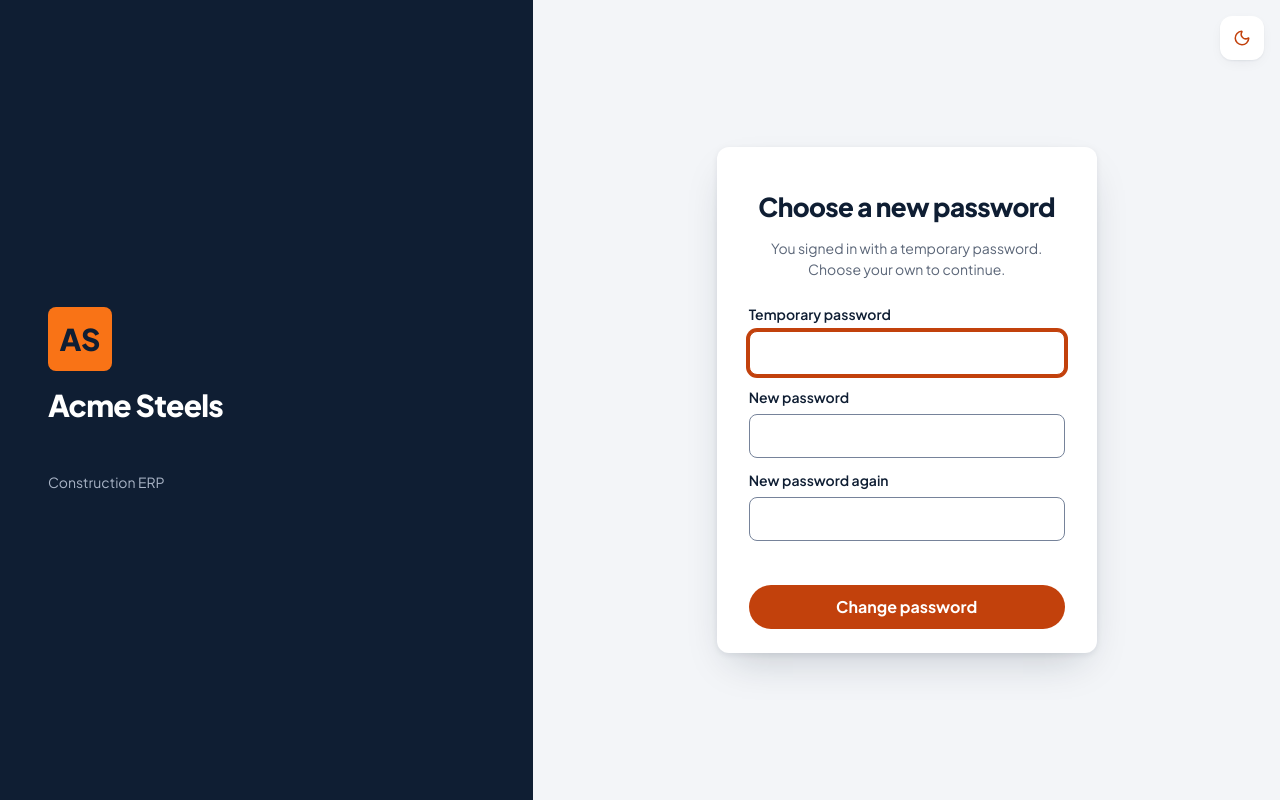
Test: a temporary password (set by Duolink when it onboarded the company) › shows the server's reason when the new password is refused
Type "temp-pass-123" into the password field labelled "Temporary password".
click(907, 353); type("temp-pass-123")  # box top-left (749, 331), bottom-right (1065, 375)
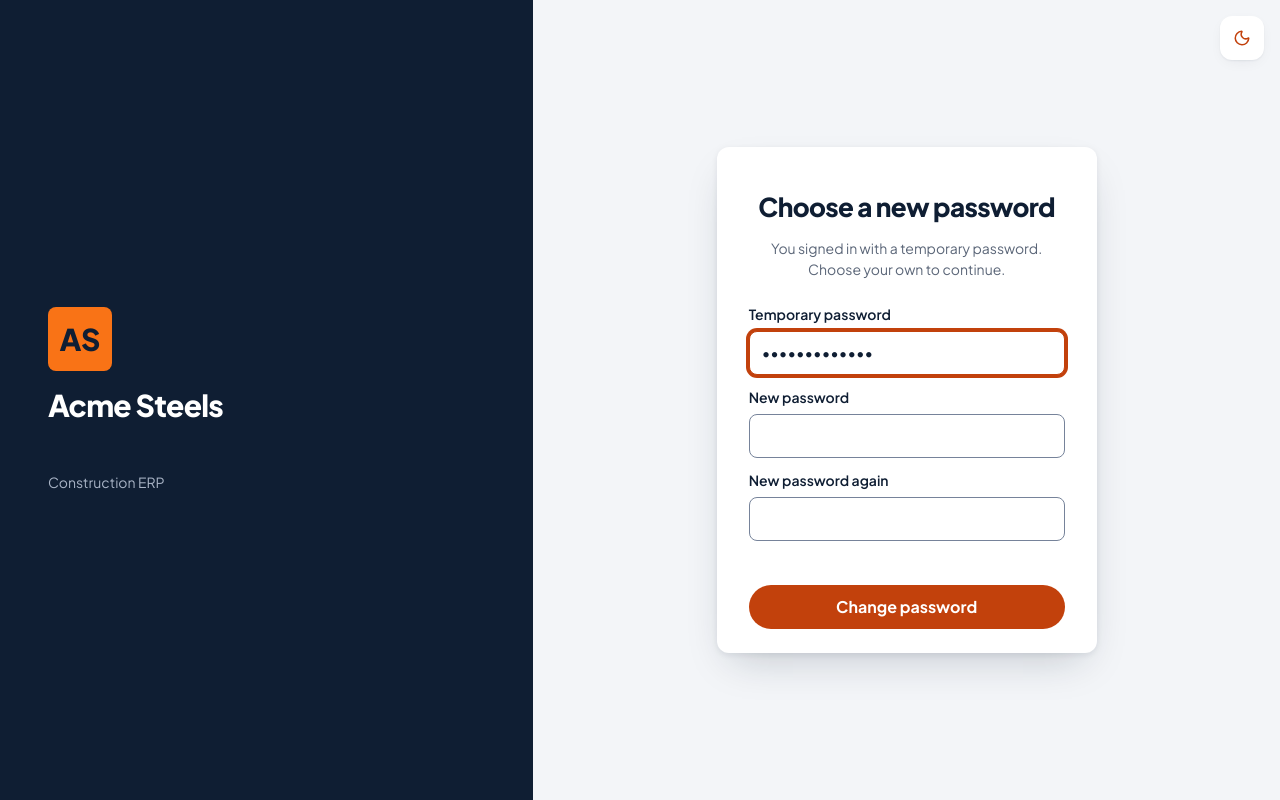
Type "temp-pass-123" into the password field labelled "New password".
click(907, 436); type("temp-pass-123")  # box top-left (749, 414), bottom-right (1065, 458)
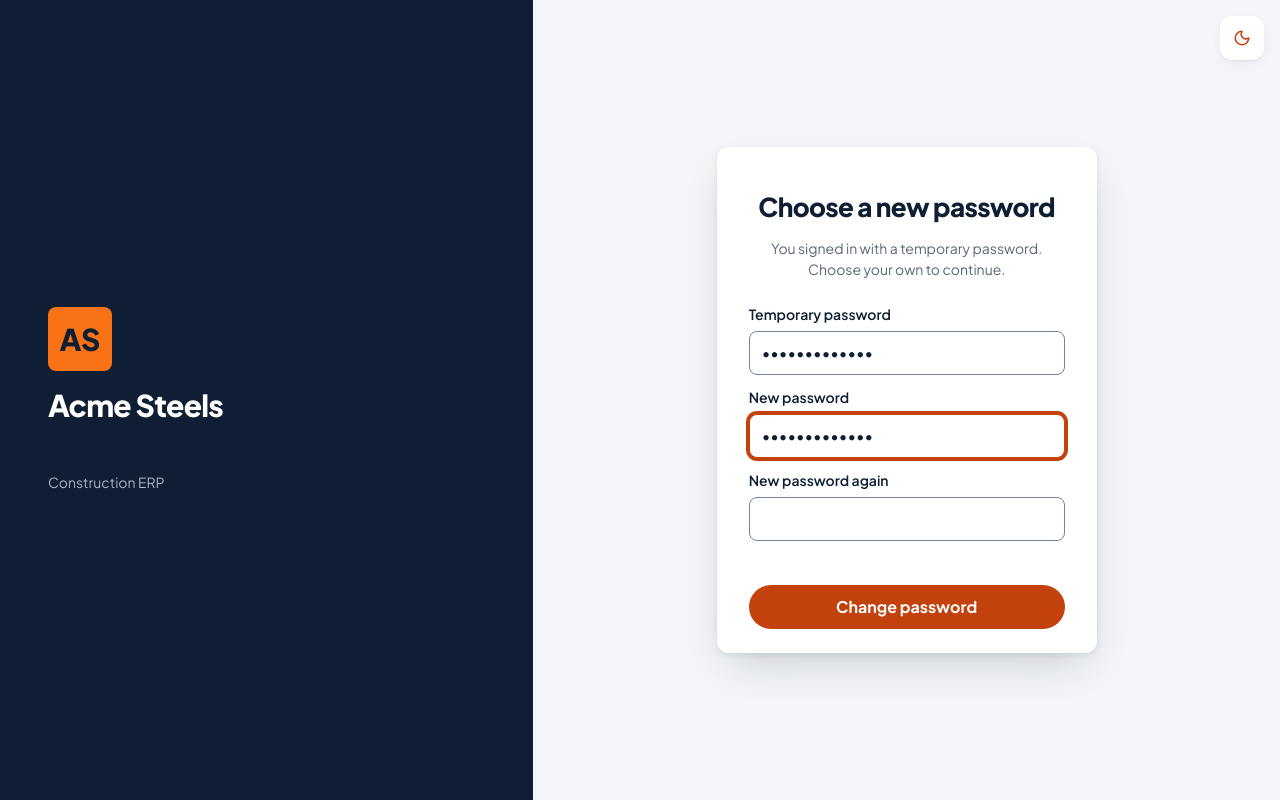
Type "temp-pass-123" into the password field labelled "New password again".
click(907, 519); type("temp-pass-123")  # box top-left (749, 497), bottom-right (1065, 541)
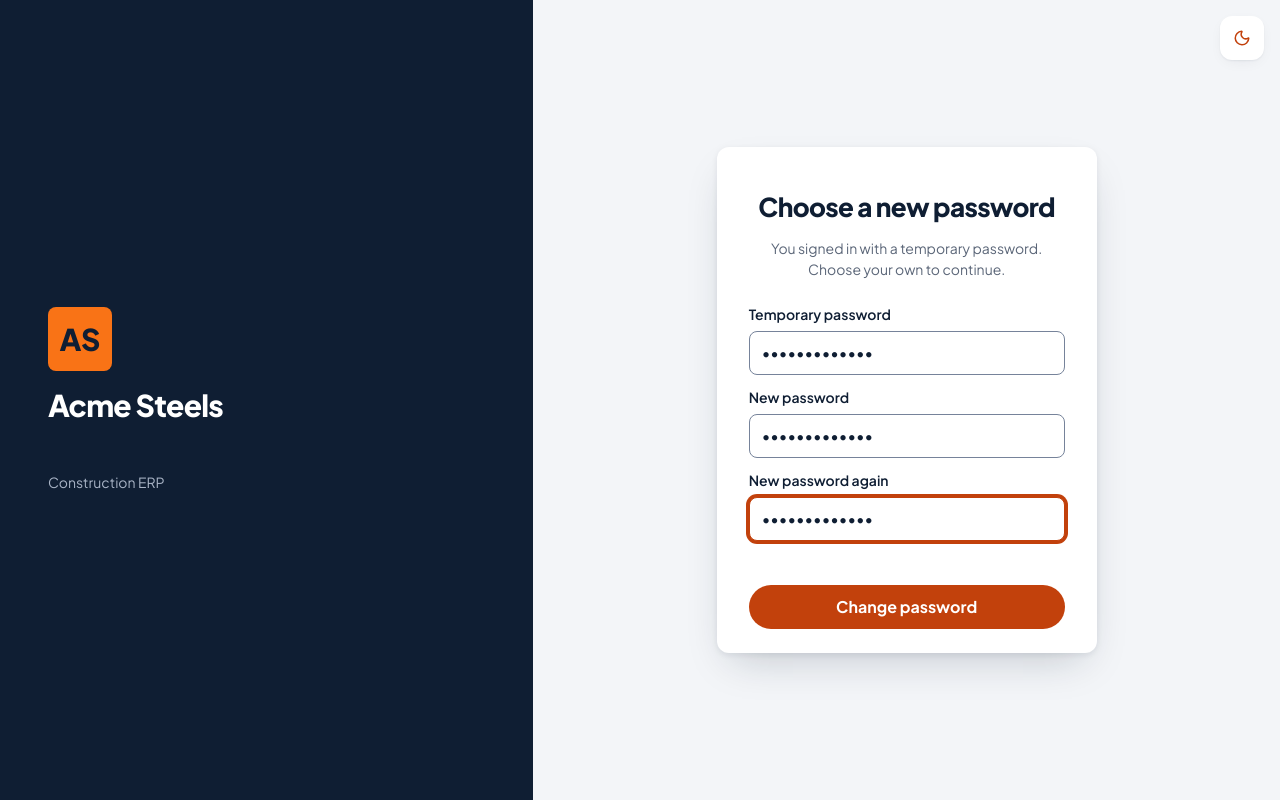
Click the button "Change password".
click(907, 607)  # box top-left (749, 585), bottom-right (1065, 629)
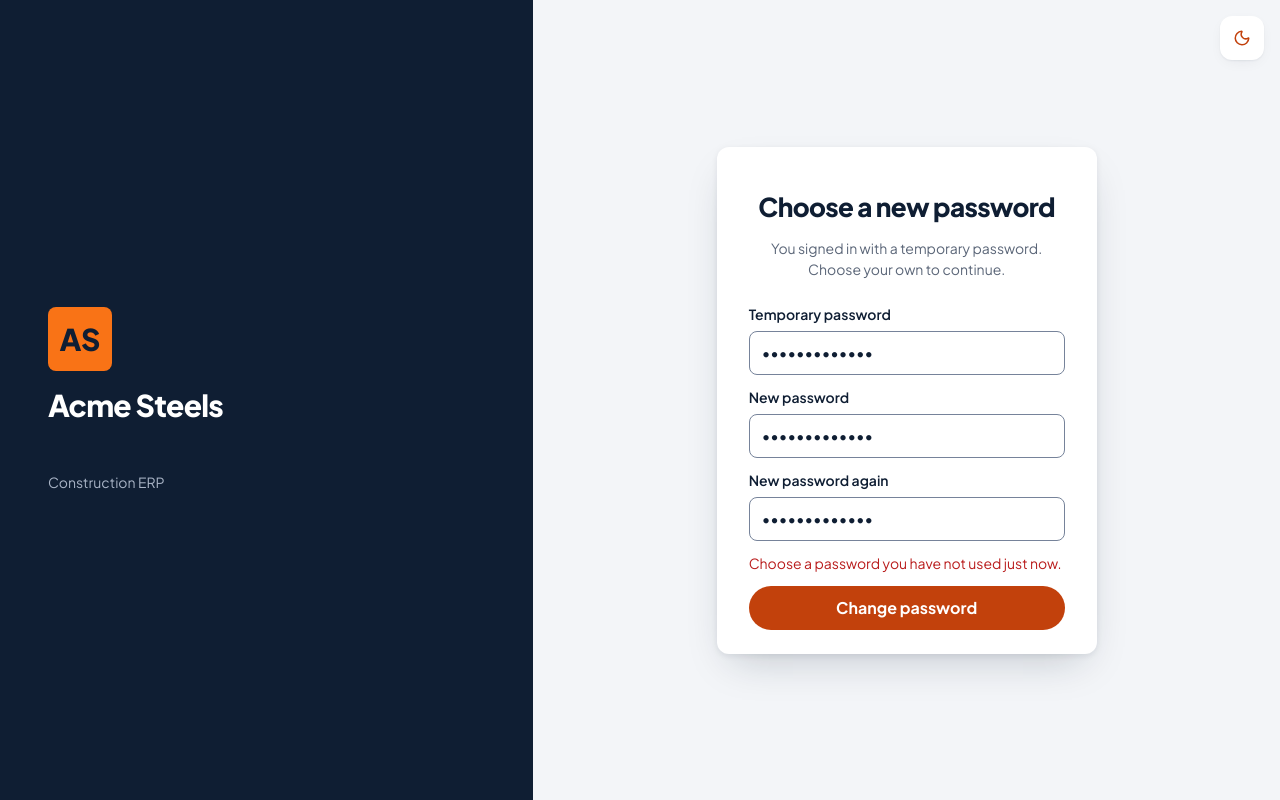
Check: the text "Choose a password you have not used just now." is shown, box top-left (749, 552), bottom-right (1065, 574)
